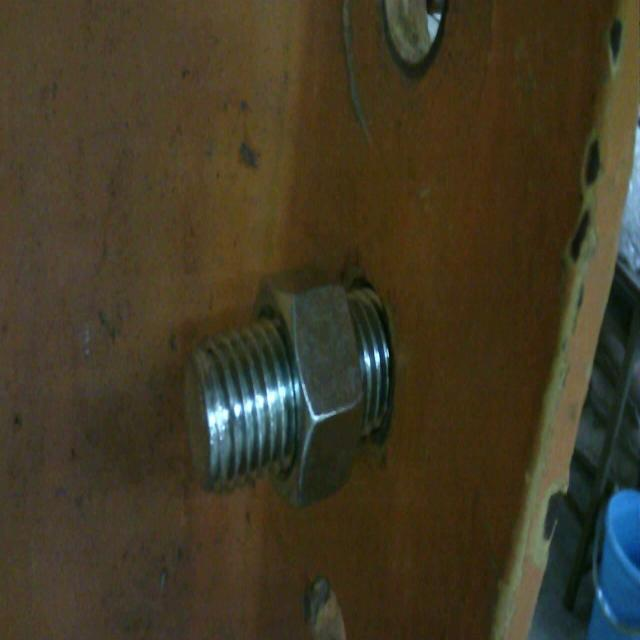Loose bolt: (178, 272, 394, 509)
Missing bolt: (383, 1, 451, 72), (303, 563, 354, 640)
Regular bolt: (192, 281, 386, 484)
